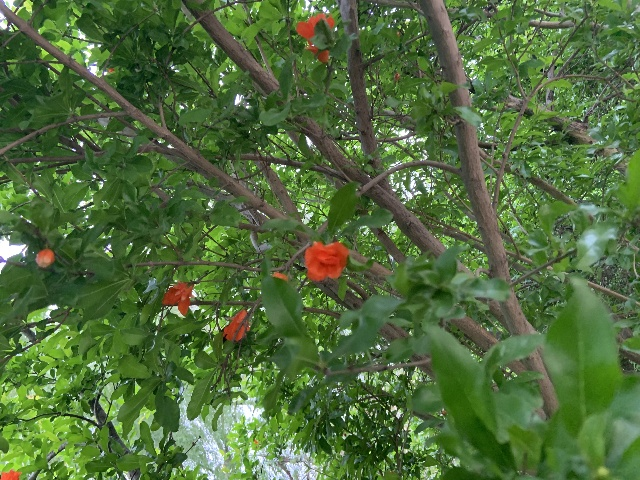bud: (36, 248, 55, 267)
flower: (296, 12, 334, 63), (303, 240, 349, 280), (161, 280, 194, 315), (222, 309, 250, 341)
